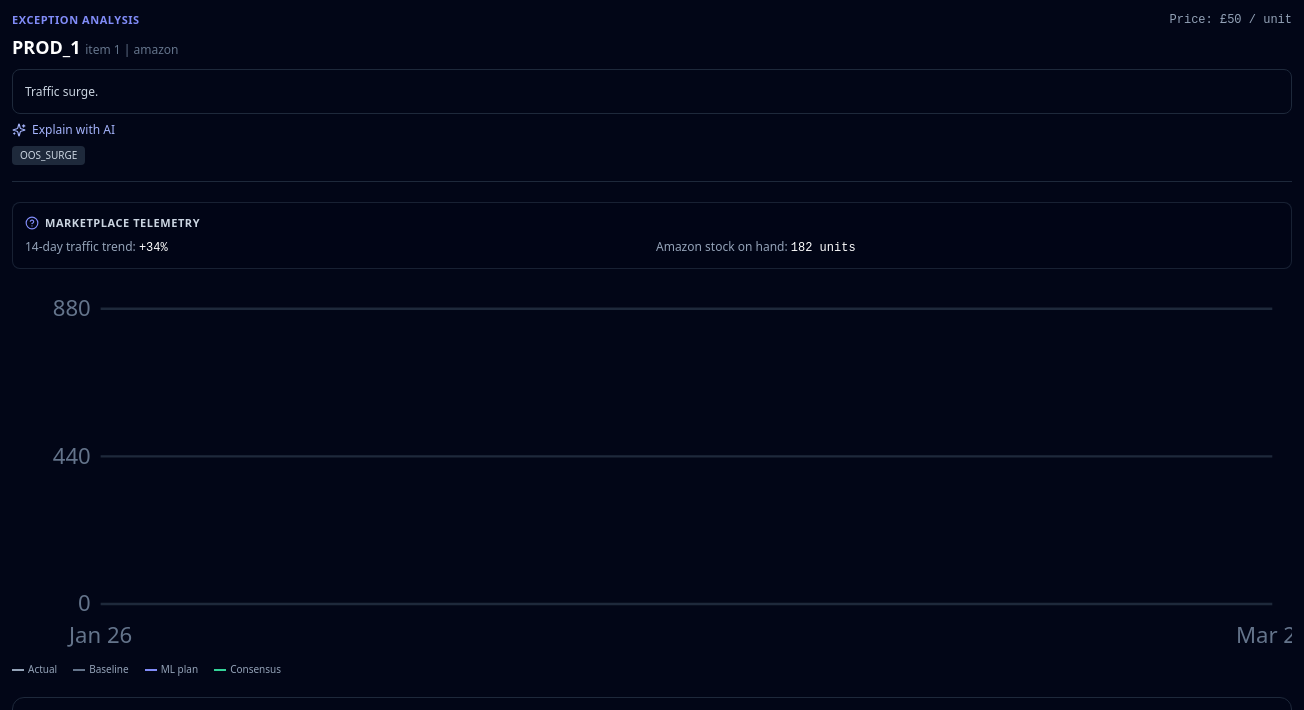
DetailPanel › labels the rule-based text when the model is unavailable or rejected
The image size is (1304, 710).
Click the button "Explain with AI". click: (64, 130)
box: [12,122,115,138]
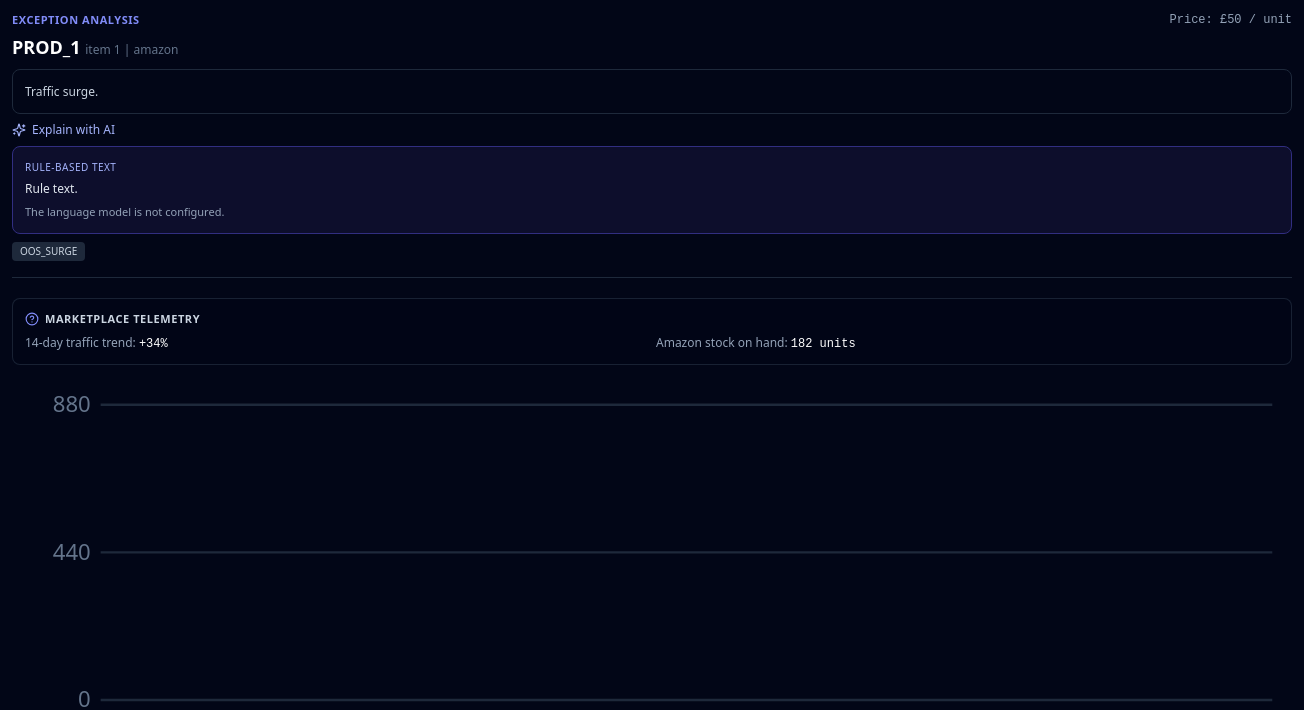
Expected: the element with test id "ai-explanation" shows "Rule-based", [25,160,116,174]
Expected: the element with test id "ai-explanation" shows "The language model is not configured.", [25,204,224,219]
